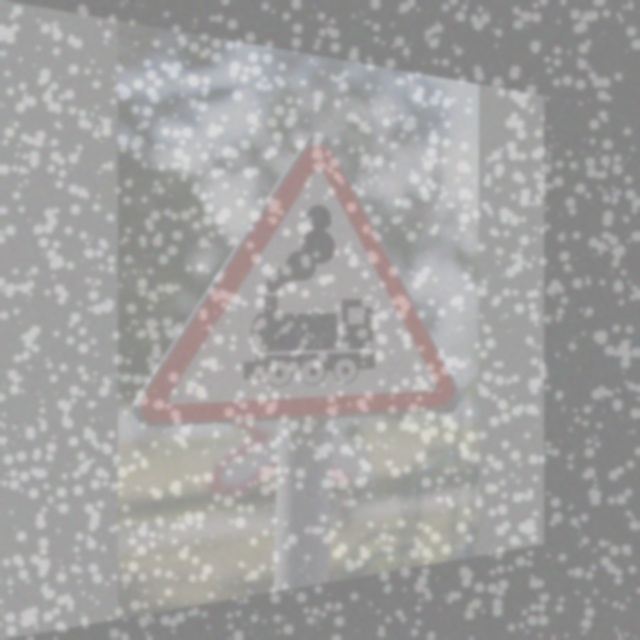Unguarded_Level_Crossing: (151, 109, 454, 432)
